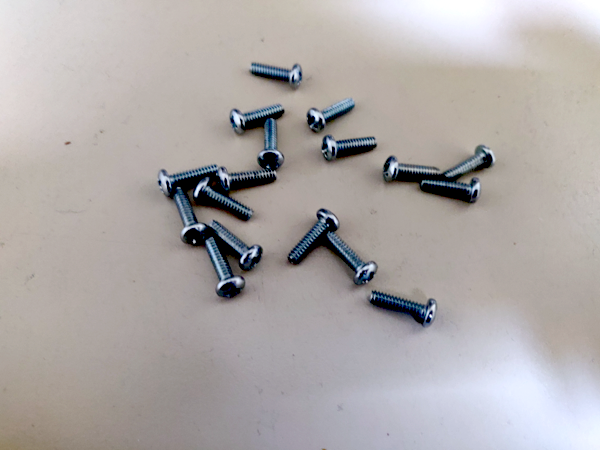shortscrew: (288, 208, 342, 266), (326, 231, 378, 285), (209, 220, 264, 271), (194, 177, 254, 222), (203, 237, 246, 298), (370, 290, 438, 328), (174, 186, 209, 245), (443, 144, 497, 181), (157, 164, 217, 197), (230, 103, 286, 135), (307, 98, 356, 133), (383, 155, 442, 183), (421, 177, 482, 204), (217, 167, 278, 193), (249, 62, 303, 89), (257, 118, 284, 170), (322, 135, 377, 160)
